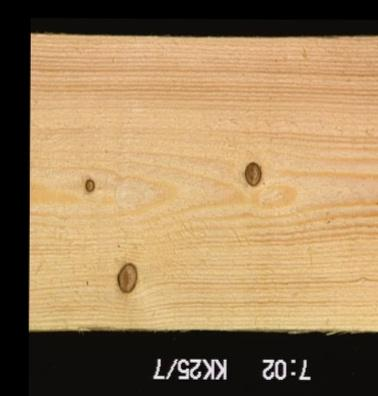dry_knot: (114, 260, 139, 295), (241, 159, 262, 187), (81, 176, 95, 194)
